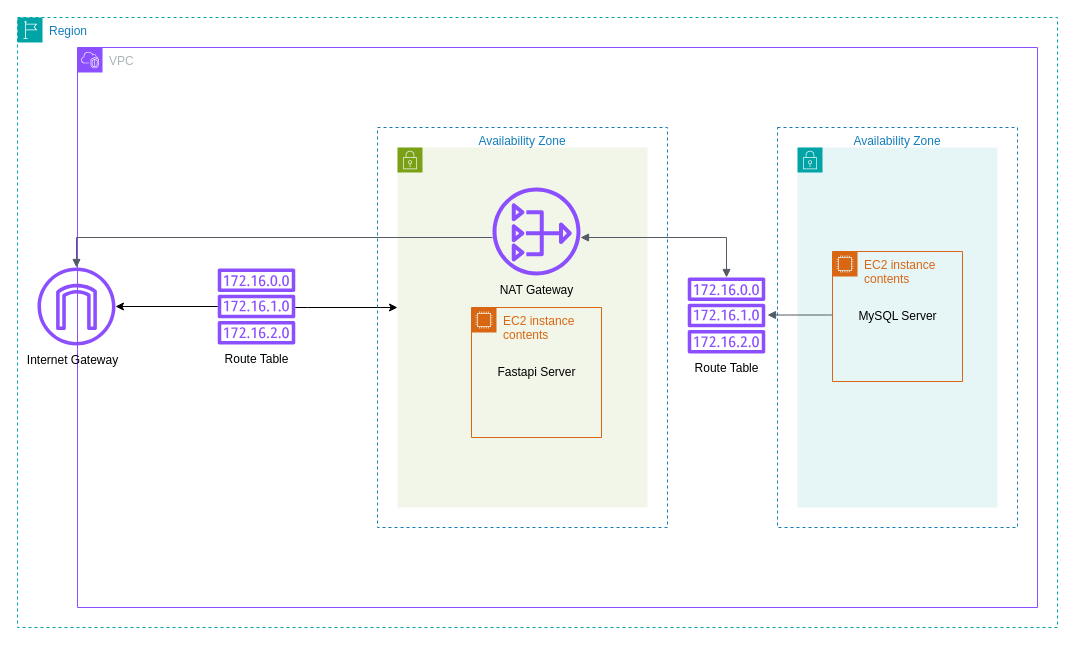
Image size: 1075x645. Some labels were removed from this diagram. Each missing label, with the box of its shape:
Private subnet: (796, 146, 998, 508)
Public subnet: (396, 146, 648, 508)
